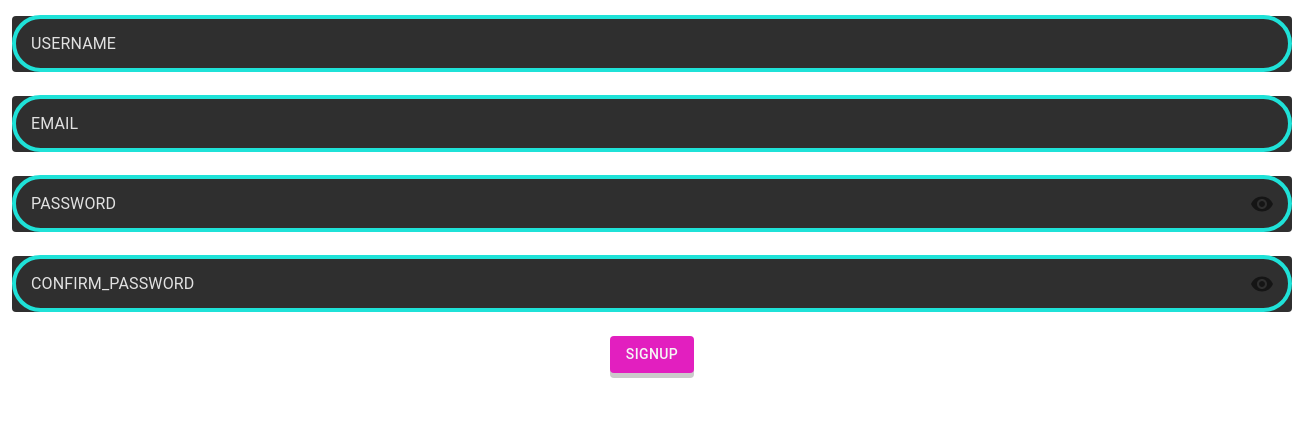
Test: auth register unit tests › username and email already taken is refused
Type "john" into the field labelled "USERNAME" at (652, 44), box [12, 16, 1292, 72]
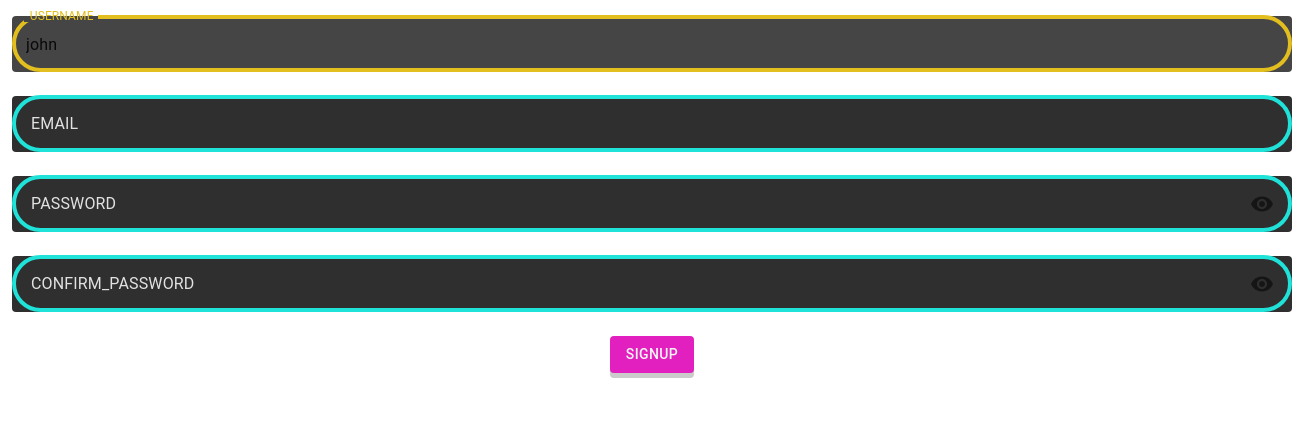
Type "john@42.fr" into the field labelled "EMAIL" at (652, 124), box [12, 96, 1292, 152]
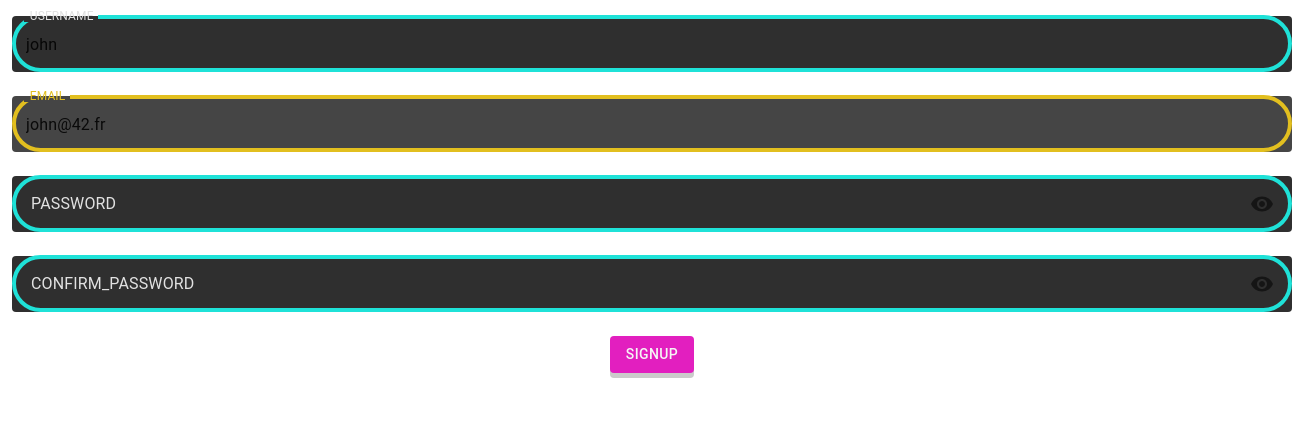
Type "Secret1!" into the password field labelled "PASSWORD" at (623, 204), box [12, 176, 1234, 232]
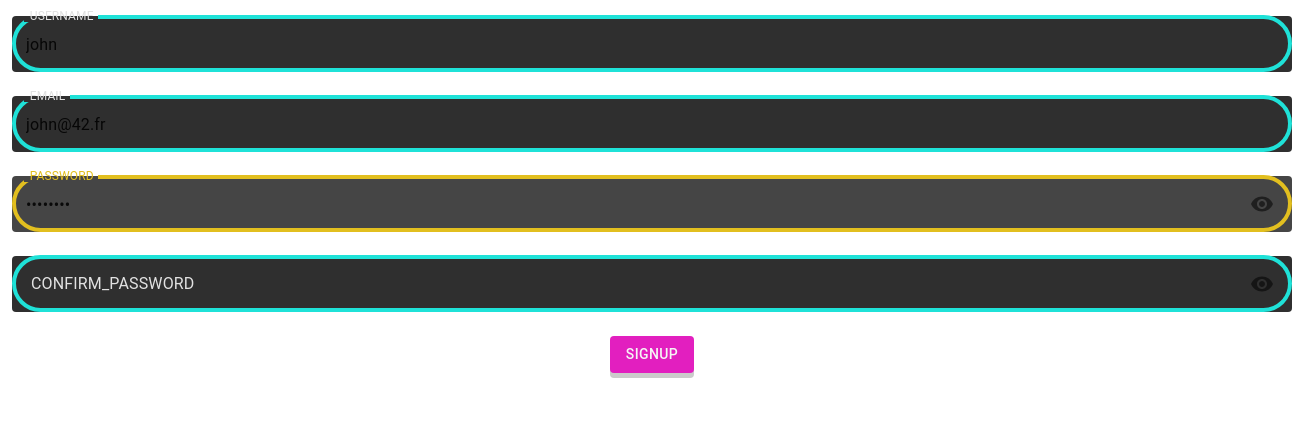
Type "Secret1!" into the password field labelled "CONFIRM_PASSWORD" at (623, 284), box [12, 256, 1234, 312]
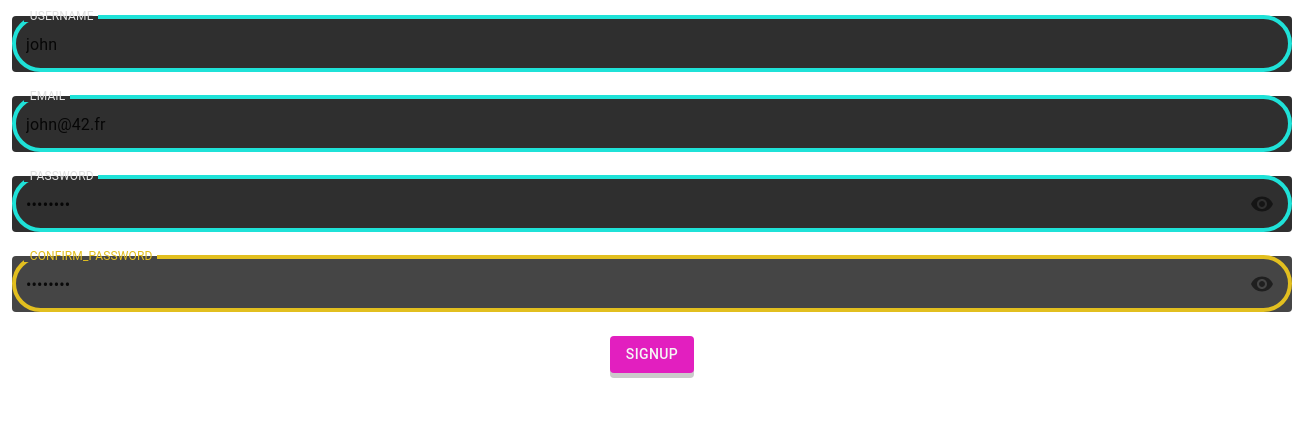
Click the button "SIGNUP" at (652, 354), box [610, 336, 694, 372]
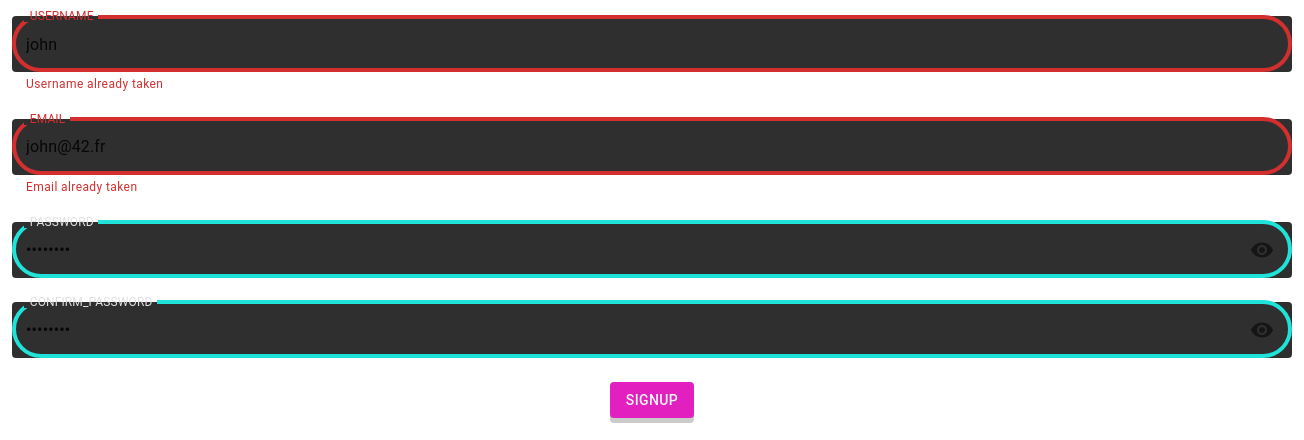
Expected: the text "Username already taken" is shown, [26, 77, 163, 91]
Expected: the text "Email already taken" is shown, [26, 180, 137, 194]
